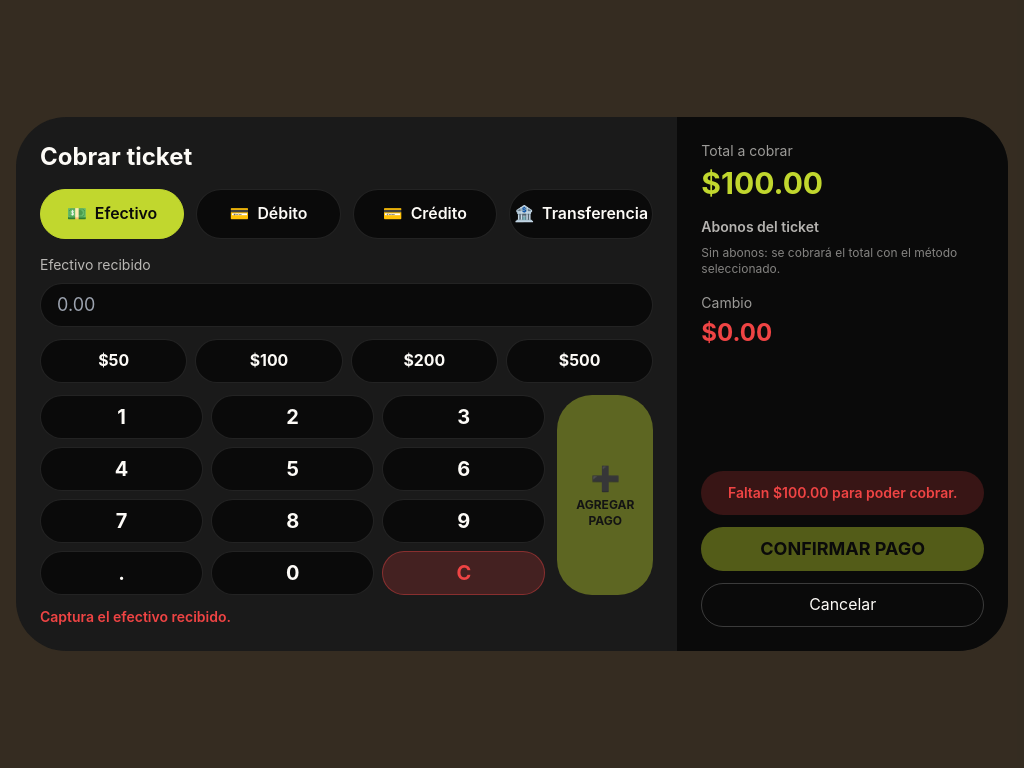
F9.1.5 — criterio 11: la lógica de dinero se conserva › acota un abono MAYOR al pendiente (no cobra de más)
Type "150" into the number field labelled "Efectivo recibido".
click(347, 305); type("150")  # box [40,283,653,327]
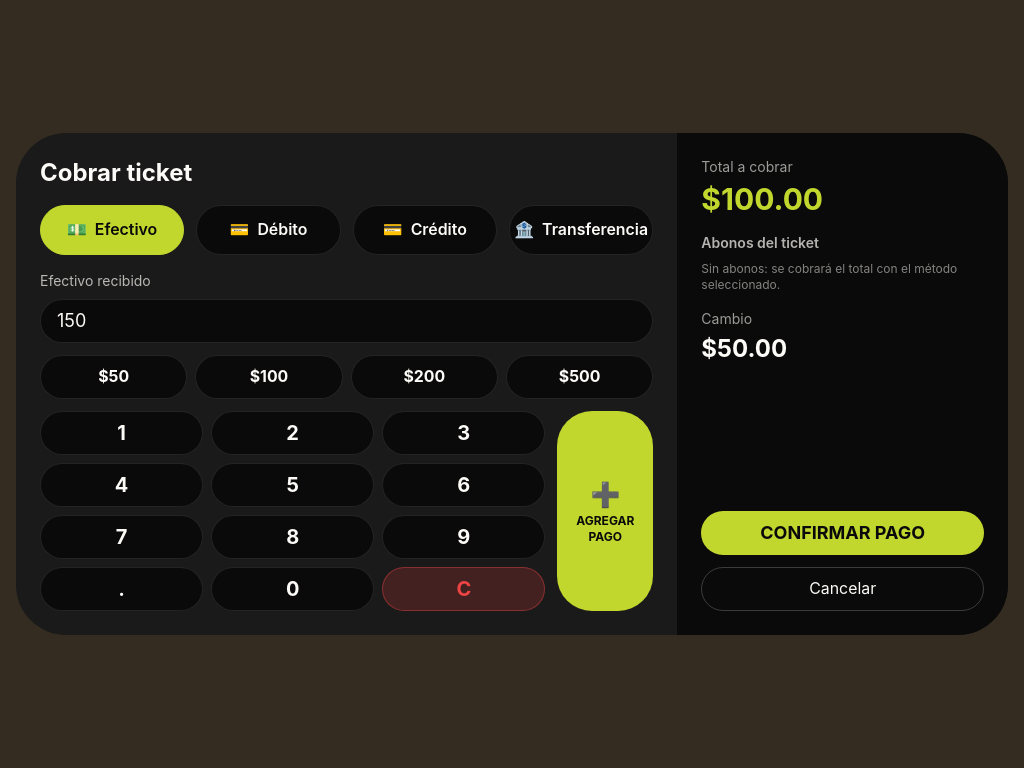
Click the button "➕ Agregar pago".
click(605, 511)  # box [557,411,653,611]
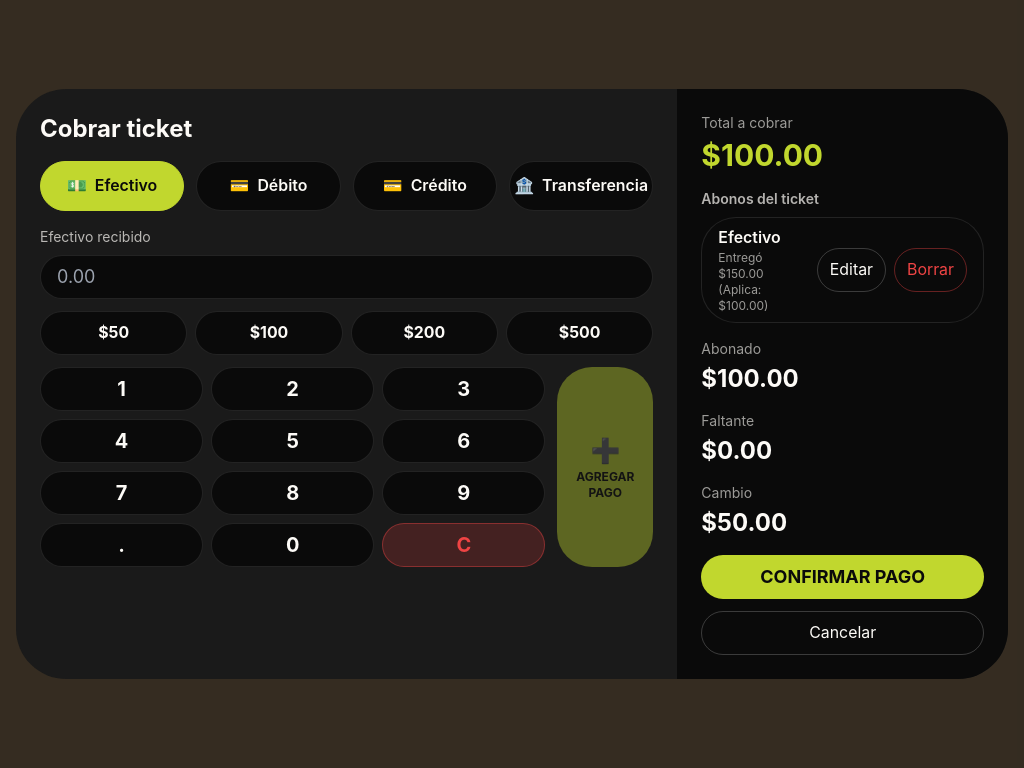
Now the list named "Abonos agregados" shows "$100.00", box [718,250,768,313]
Now the text "$0.00" is shown, box [701,436,772,465]
